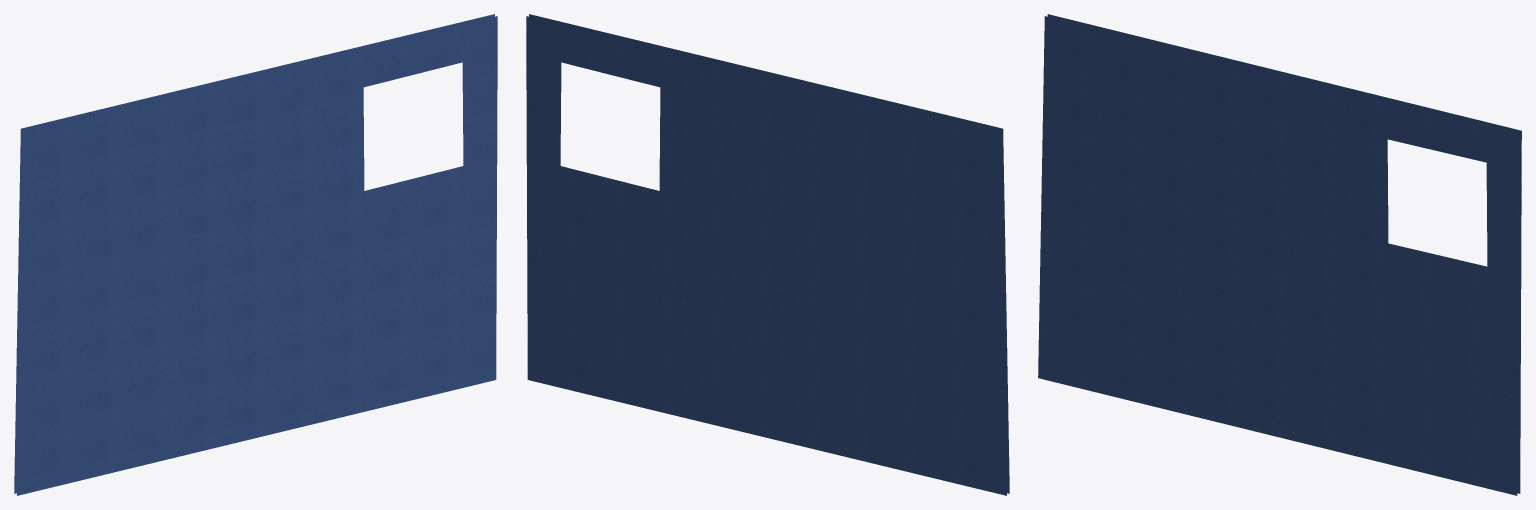
The model's file is floor_1.obj.
3 views of the same model, side by side, from view 1: azimuth 30°, elevation 25°; view 2: azimuth 150°, elevation 25°; view 3: azimuth 330°, elevation 25° (orthographic).
Visible parts, largest first — view 1: floor_1; view 2: floor_1; view 3: floor_1.
Part boxes in pixels (box(x1,y1,x2,y2)): floor_1: box(14, 14, 497, 495); floor_1: box(526, 14, 1009, 495); floor_1: box(1038, 14, 1521, 495).
Bounding box in the file's own units: 9.92 × 7.19 × 0.1.
